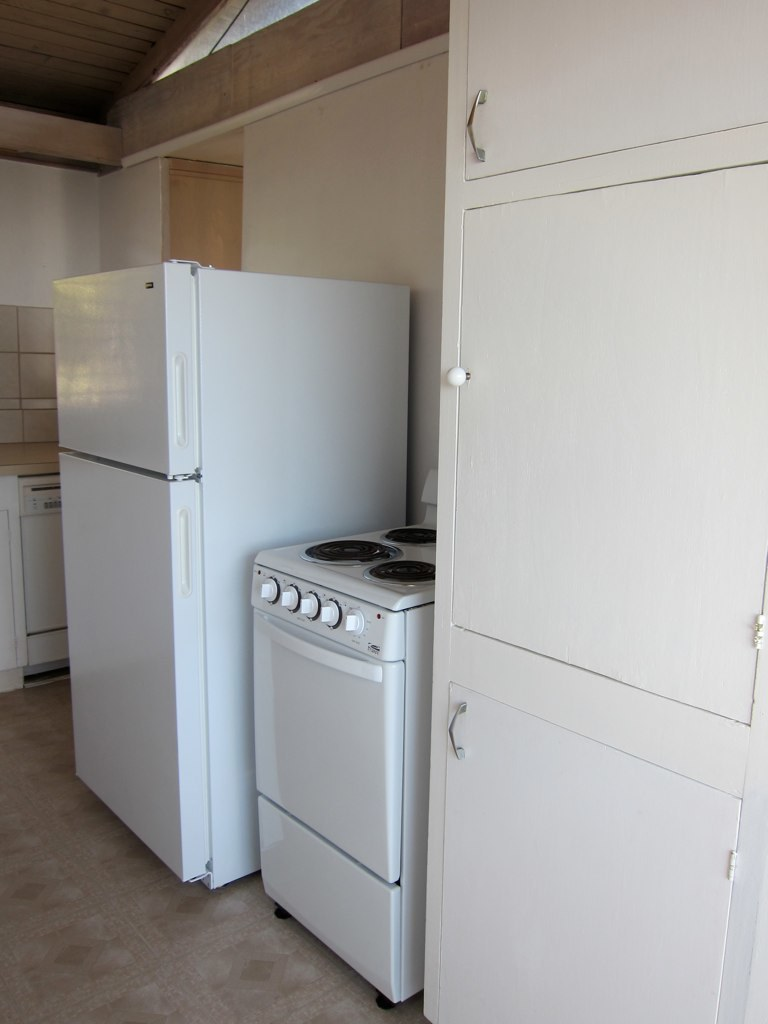cabinet door: (462, 206, 753, 668), (449, 690, 745, 1024), (466, 24, 760, 155)
handle: (259, 614, 391, 688), (464, 61, 487, 169), (446, 688, 473, 778), (178, 485, 196, 599), (448, 348, 476, 414), (173, 353, 185, 448)
refrigerator door: (67, 475, 202, 829), (59, 297, 193, 451)
